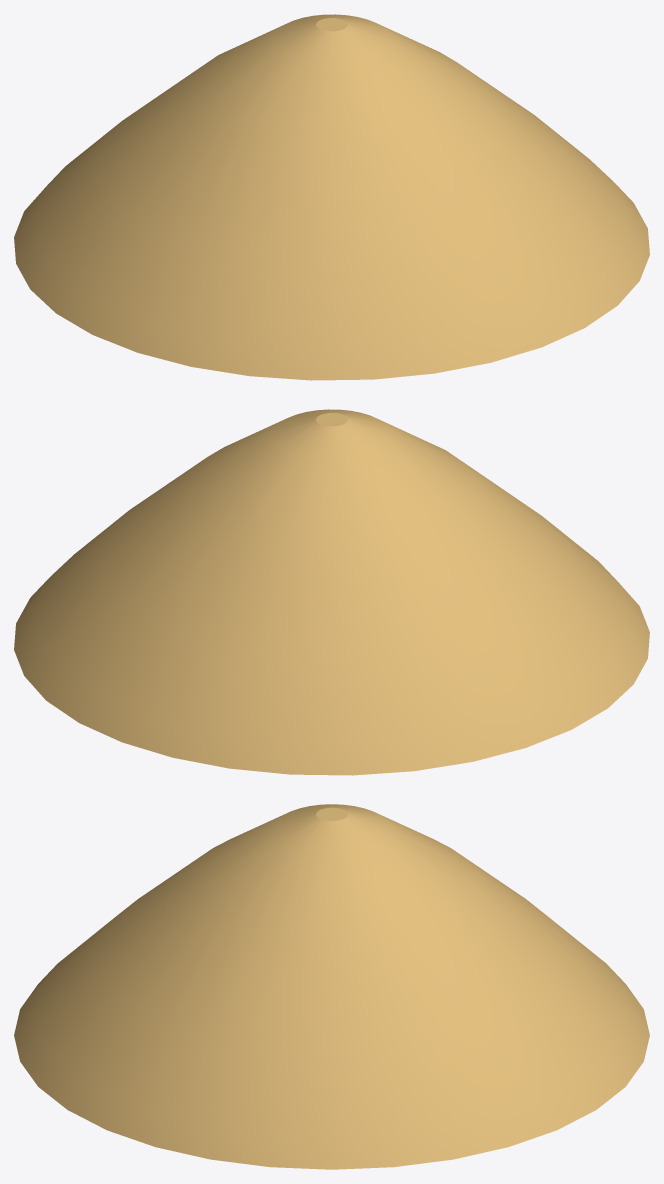
File: sand-pile.fbx
3 renders of one model, top to bottom at view 1: azimuth 30°, elevation 25°; view 2: azimuth 150°, elevation 25°; view 3: azimuth 270°, elevation 25°, orthographic.
Parts seen in each view (by area): view 1: sand-pile; view 2: sand-pile; view 3: sand-pile.
Boxes of the visible parts, left/top/right/bottom form: sand-pile: left=14, top=14, right=649, bottom=380; sand-pile: left=14, top=409, right=649, bottom=775; sand-pile: left=14, top=804, right=649, bottom=1169.
Bounding box in the file's own units: 1200 × 460 × 1200.
Materials: 1 (1 with a texture image).
